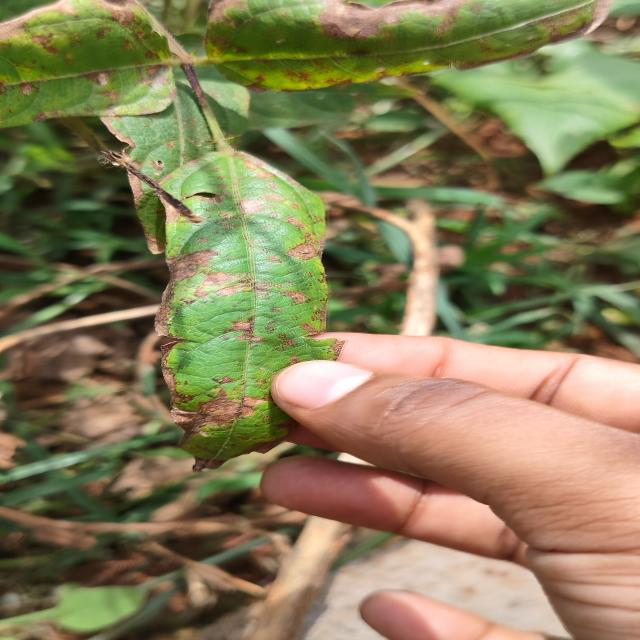Black gram_leaf spot: (154, 152, 333, 464), (205, 0, 615, 100), (0, 0, 171, 122)
